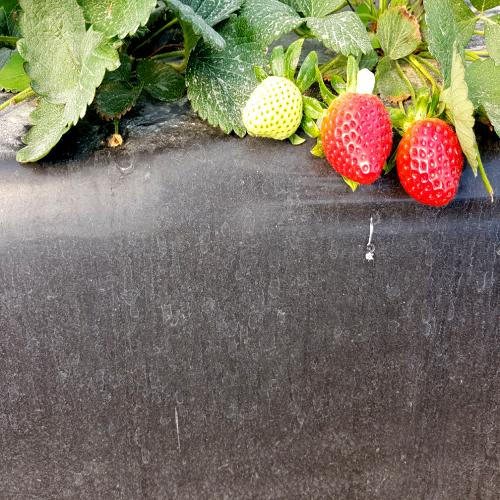ripe: (315, 84, 395, 183), (395, 106, 467, 207)
